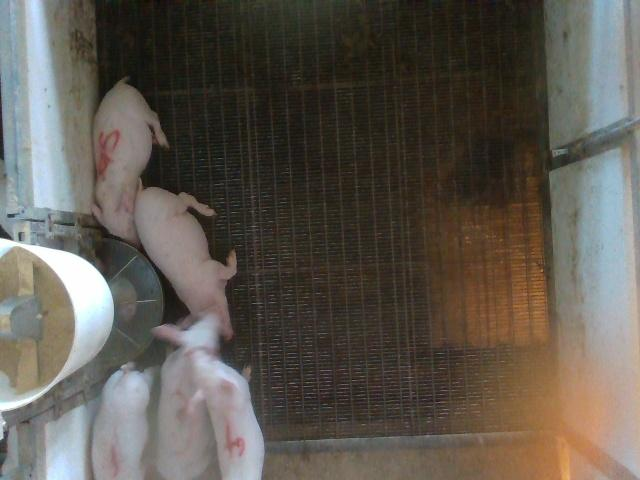pig-1: (92, 362, 151, 479)
pig-3: (154, 315, 219, 479)
pig-4: (186, 350, 264, 478)
pig-5: (92, 78, 169, 246)
